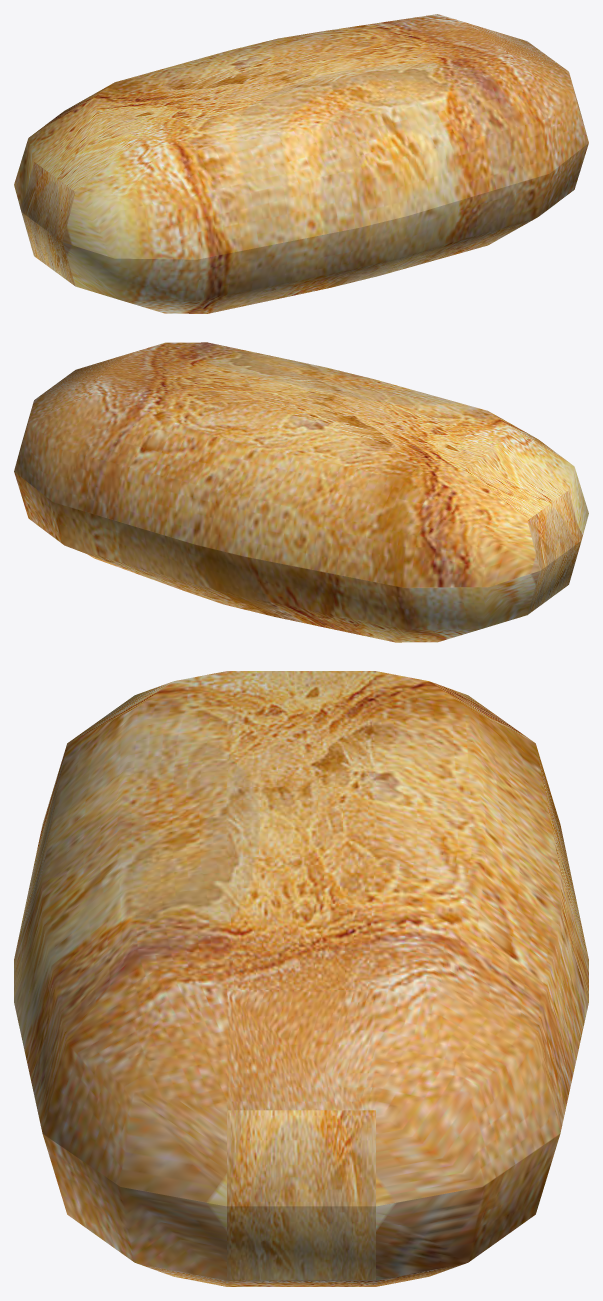
The model's file is environment_bread.FBX.
3 renders of one model, top to bottom at view 1: azimuth 30°, elevation 25°; view 2: azimuth 150°, elevation 25°; view 3: azimuth 270°, elevation 25°, orthographic. The views are drawn at different scales.
Visible parts, largest first — view 1: ChamferBox001; view 2: ChamferBox001; view 3: ChamferBox001.
Boxes of the visible parts, x1=… form: ChamferBox001: x1=14, y1=14, x2=588, y2=313; ChamferBox001: x1=14, y1=342, x2=588, y2=642; ChamferBox001: x1=14, y1=671, x2=588, y2=1286.
Bounding box in the file's own units: 16.13 × 5.62 × 8.62.
1 material, 1 textured.
